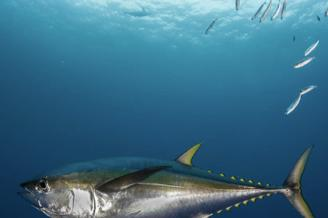Scombridae -Tunas-: (5, 142, 328, 218)
